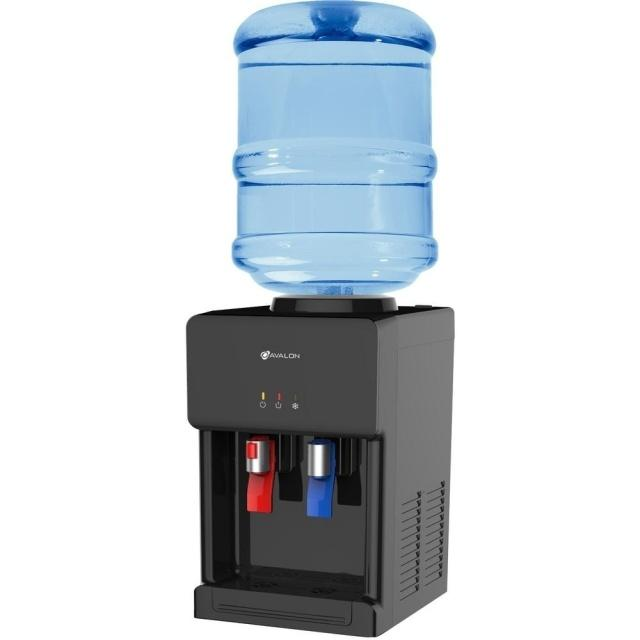Dispenser: (185, 0, 454, 637)
